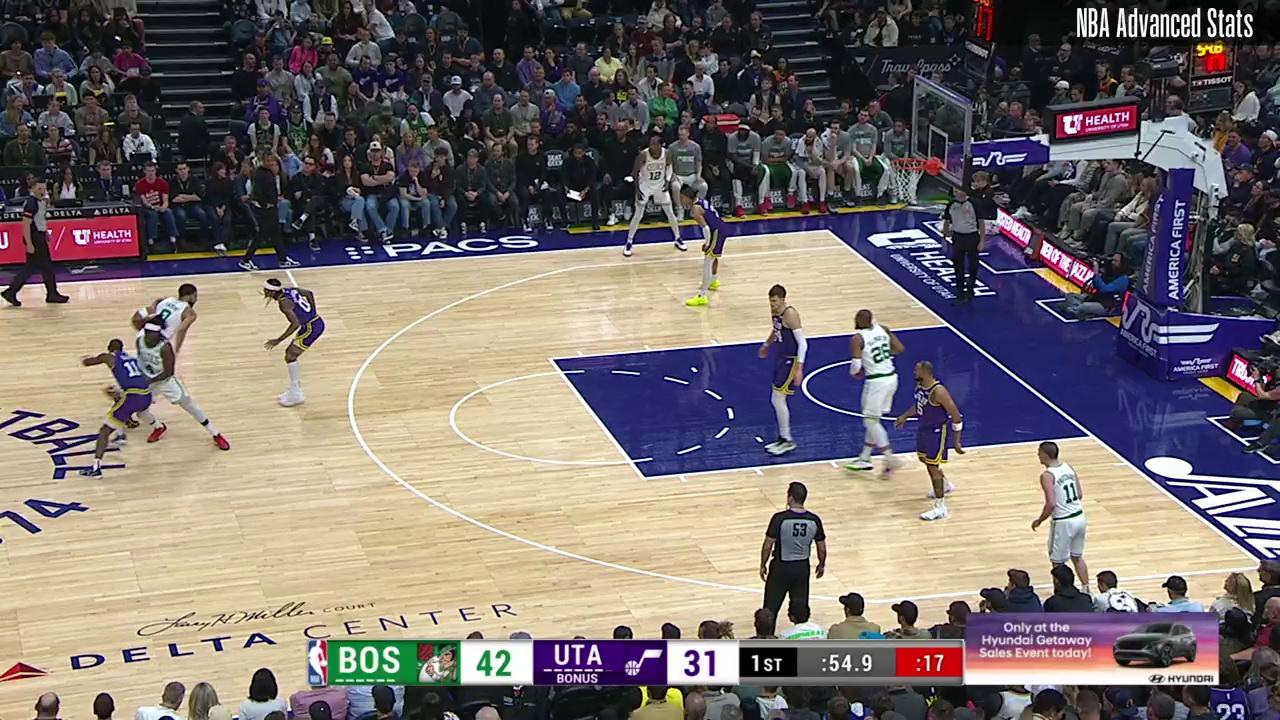3_sx: (841, 241, 853, 251)
b_sx: (823, 226, 832, 235)
free_adx: (637, 473, 650, 484)
free_asx: (542, 352, 559, 367)
free_bdx: (1085, 431, 1099, 443)
free_bsx: (940, 319, 955, 331)
mid_sx: (292, 283, 302, 291)
referee: (755, 480, 828, 627), (5, 174, 70, 307), (942, 183, 989, 307)
team: (127, 320, 228, 447), (839, 307, 909, 477), (1026, 441, 1096, 596), (621, 135, 688, 254), (132, 286, 199, 379)
team1: (898, 360, 970, 521), (77, 338, 151, 478), (755, 282, 813, 456), (261, 280, 325, 413), (678, 183, 726, 309)
timer: (814, 641, 880, 681)
